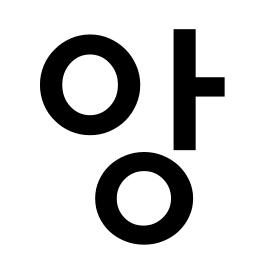Gaji: (158, 64, 212, 113)
